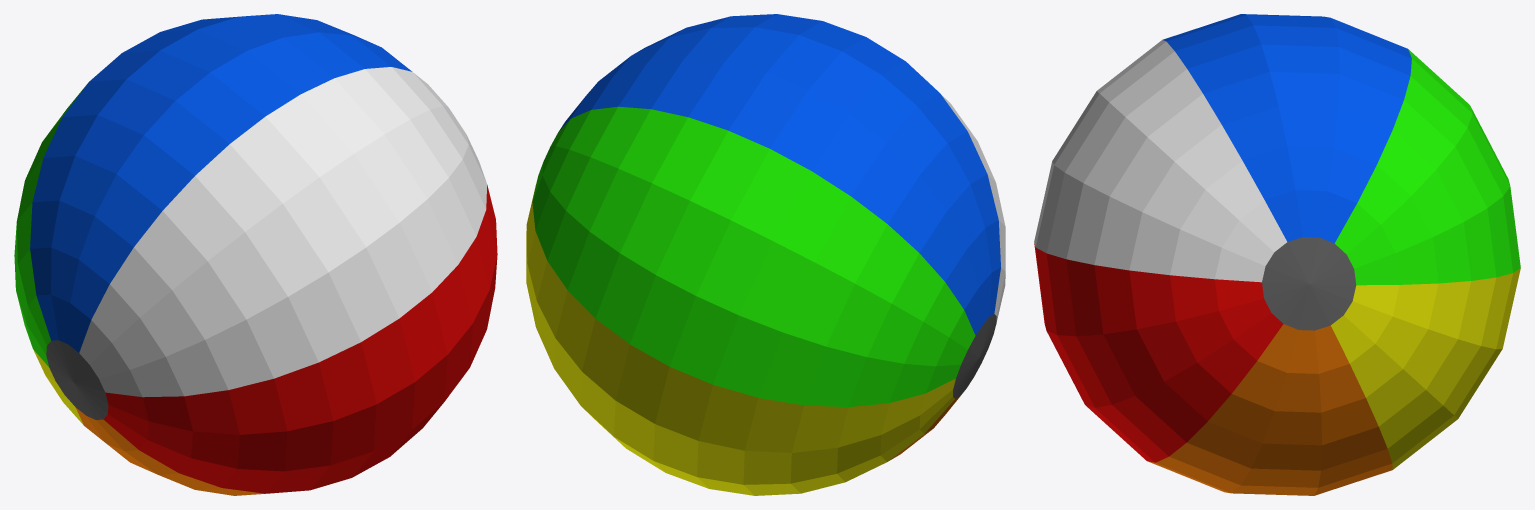
Rendered from Ball01.fbx.
3 views of the same model, side by side, from view 1: azimuth 30°, elevation 25°; view 2: azimuth 150°, elevation 25°; view 3: azimuth 270°, elevation 25° (orthographic).
Parts seen in each view (by area): view 1: Sphere; view 2: Sphere; view 3: Sphere.
Boxes of the visible parts, <box> form: Sphere: <box>14,14,497,495</box>; Sphere: <box>526,14,1005,495</box>; Sphere: <box>1034,14,1520,495</box>.
Size of the model in its own units: 199 by 199 by 199.
